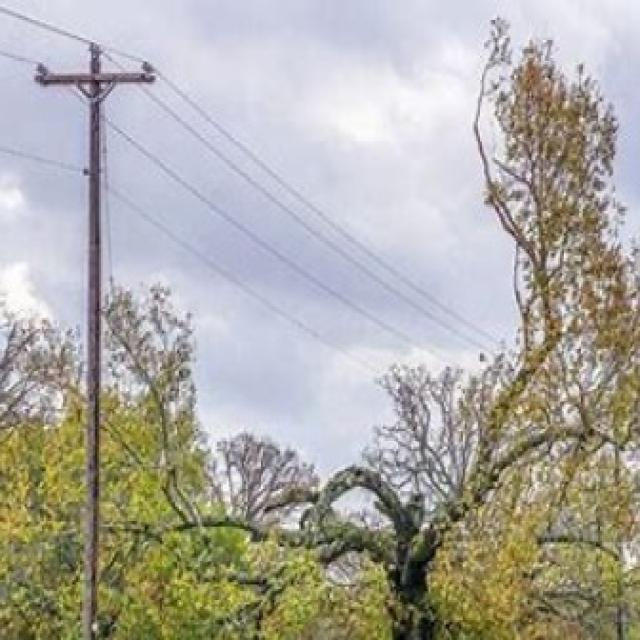utility poles: (32, 29, 151, 640)
